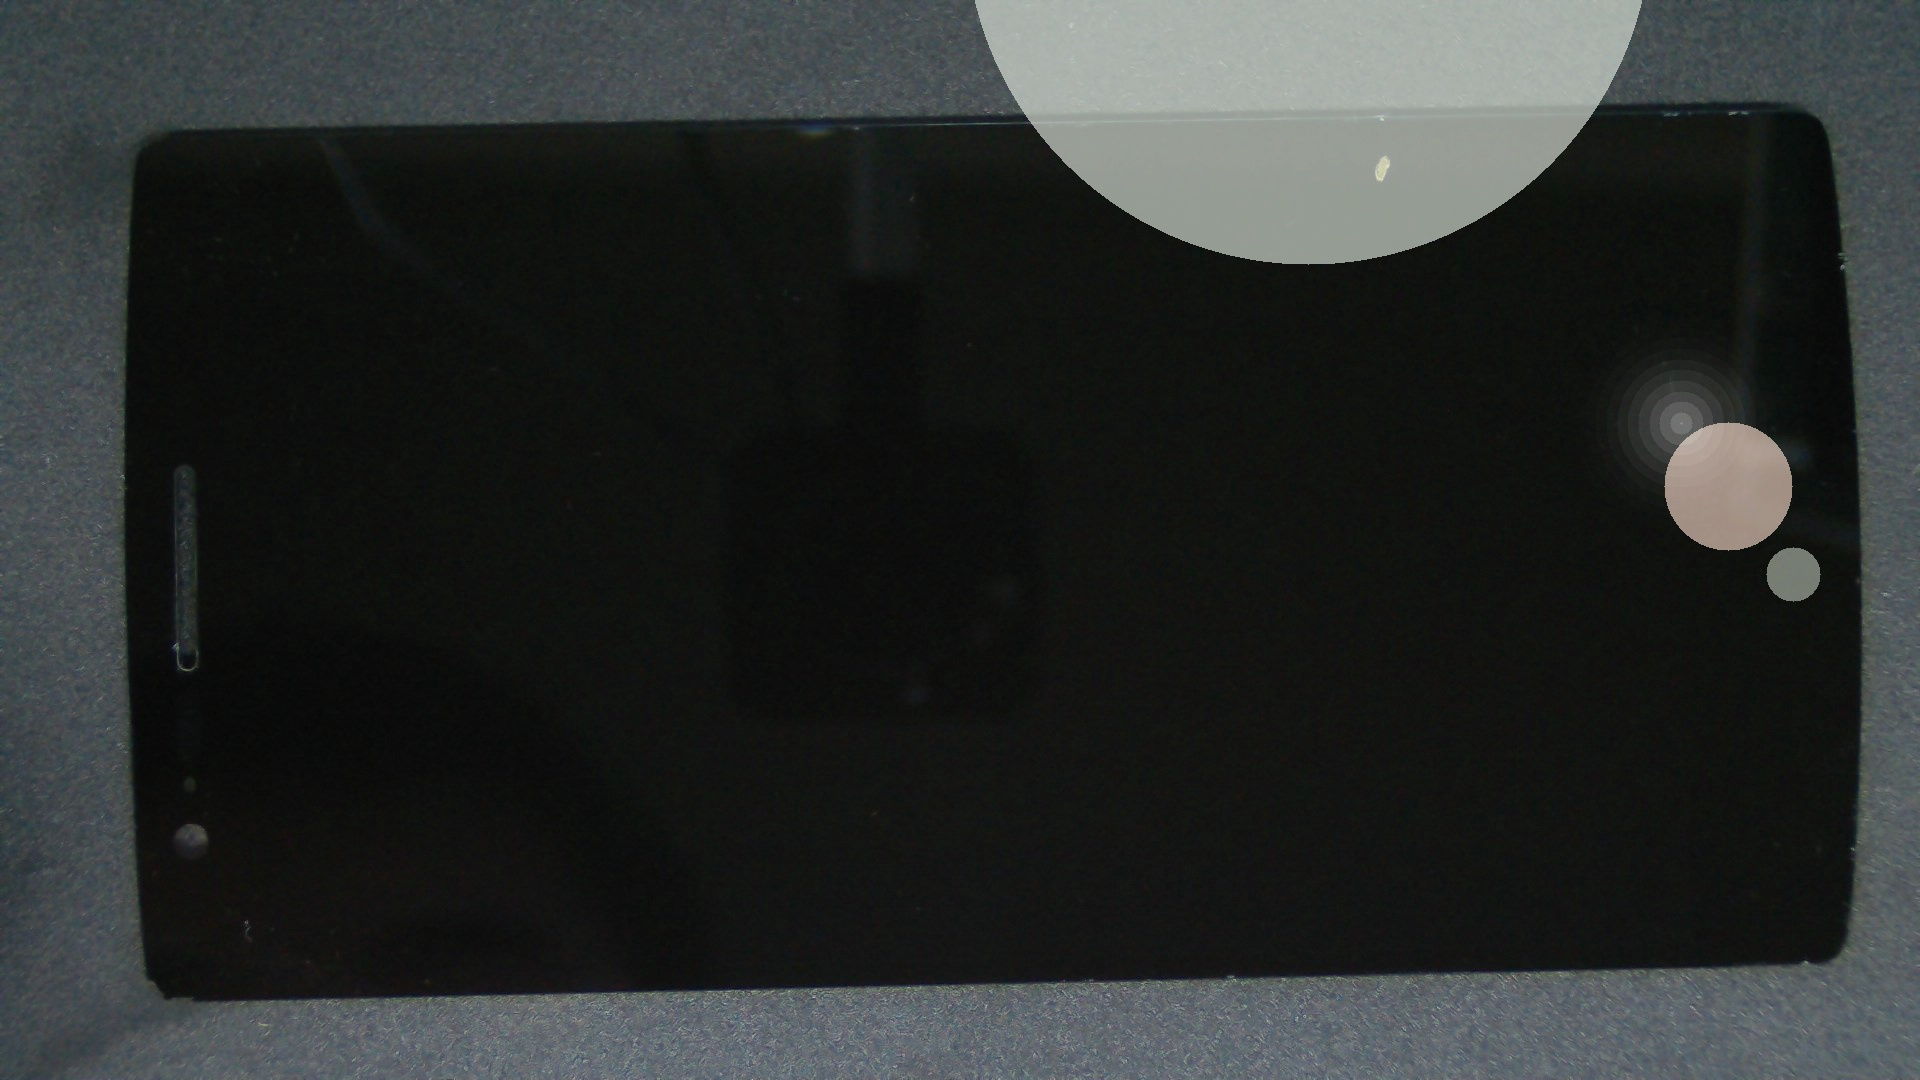oil: (695, 74, 1920, 235)
